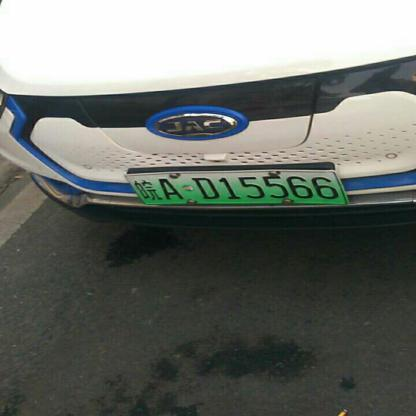lp: (124, 171, 345, 203)
